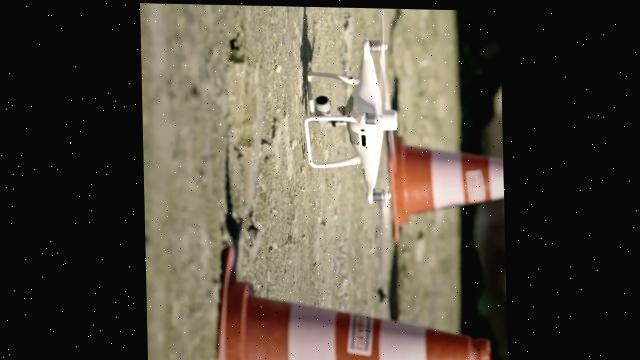drone: (299, 5, 401, 238)
